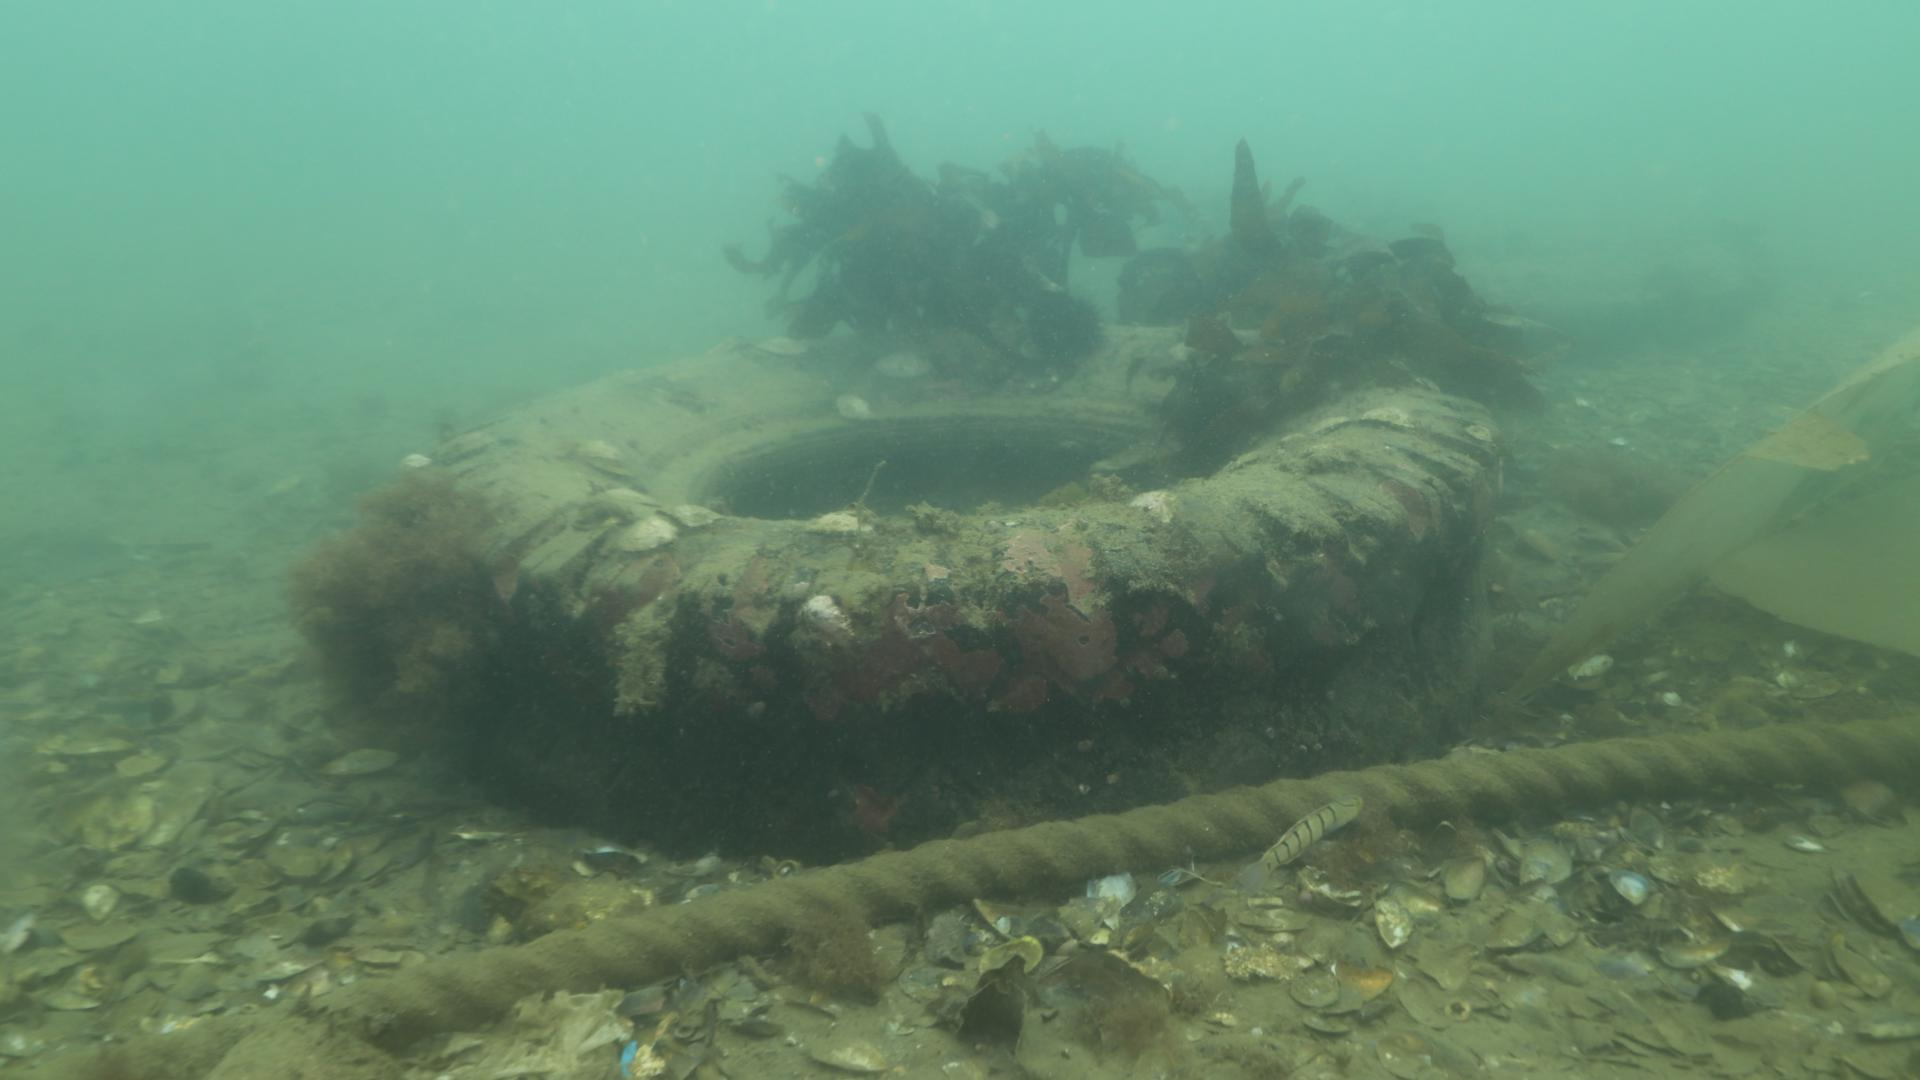rope: (295, 708, 1920, 1080)
tire: (392, 328, 1513, 872)
